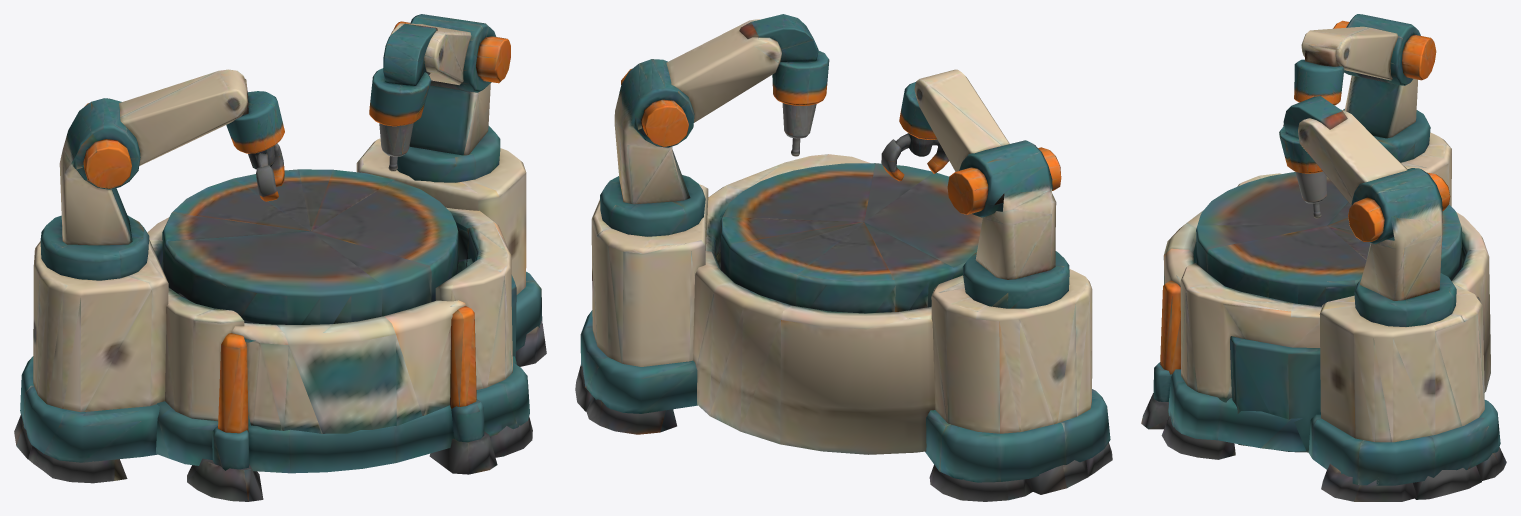
File: assembler-lod0.9cf27f3decd3.glb
The picture shows the model from 3 angles, left to right: view 1: azimuth 30°, elevation 25°; view 2: azimuth 150°, elevation 25°; view 3: azimuth 270°, elevation 25°; orthographic projection. The views are drawn at different scales.
Parts seen in each view (by area): view 1: geometry_0; view 2: geometry_0; view 3: geometry_0.
Part boxes in pixels (<box>): geometry_0: <box>14,14,546,501</box>; geometry_0: <box>575,14,1112,501</box>; geometry_0: <box>1141,14,1506,501</box>.
Size of the model in its own units: 1 by 0.6877 by 0.6898.
1 material, 1 textured.
